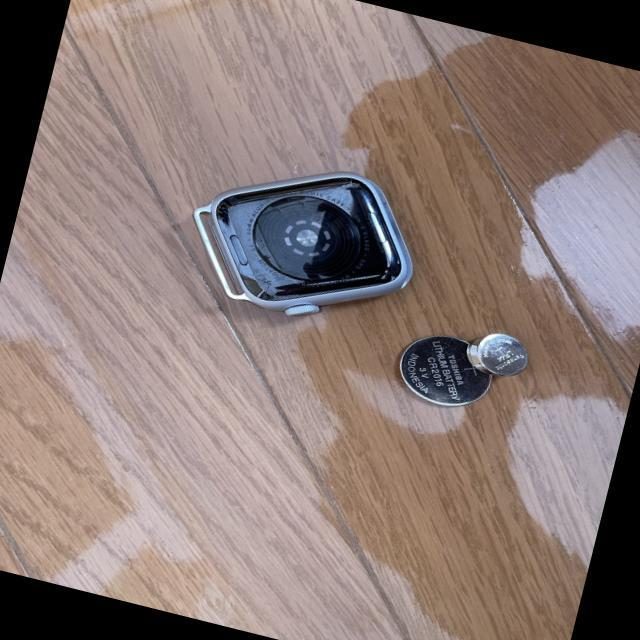COIN: (390, 325, 500, 414), (462, 324, 534, 380)
